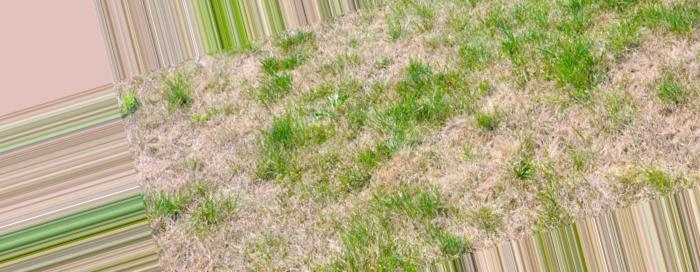patch: (438, 111, 627, 181), (192, 193, 338, 260), (151, 79, 240, 174), (327, 22, 404, 74)
